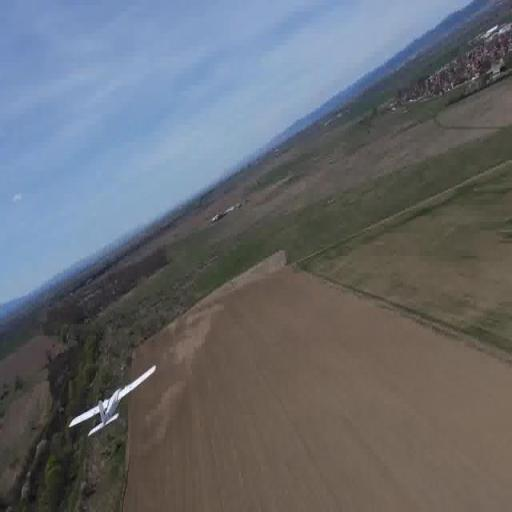uav: (67, 360, 160, 438)
